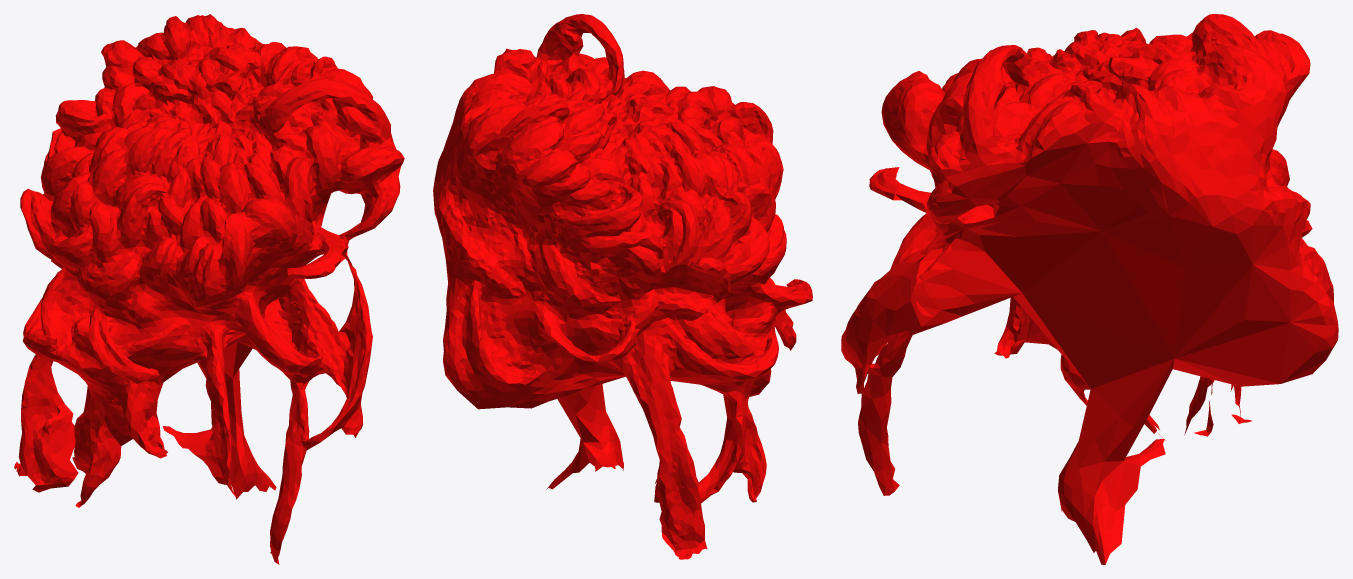
Rendered from flower7.glb.
3 views of the same model, side by side, from view 1: azimuth 30°, elevation 25°; view 2: azimuth 150°, elevation 25°; view 3: azimuth 270°, elevation 25° (orthographic). The views are drawn at different scales.
Bounding box in the file's own units: 109 × 150 × 130.
